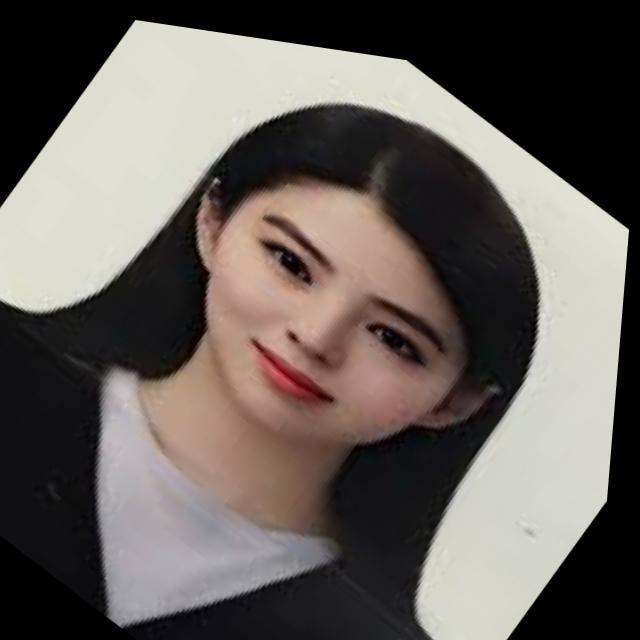Nonhelmet: (148, 79, 552, 478)
